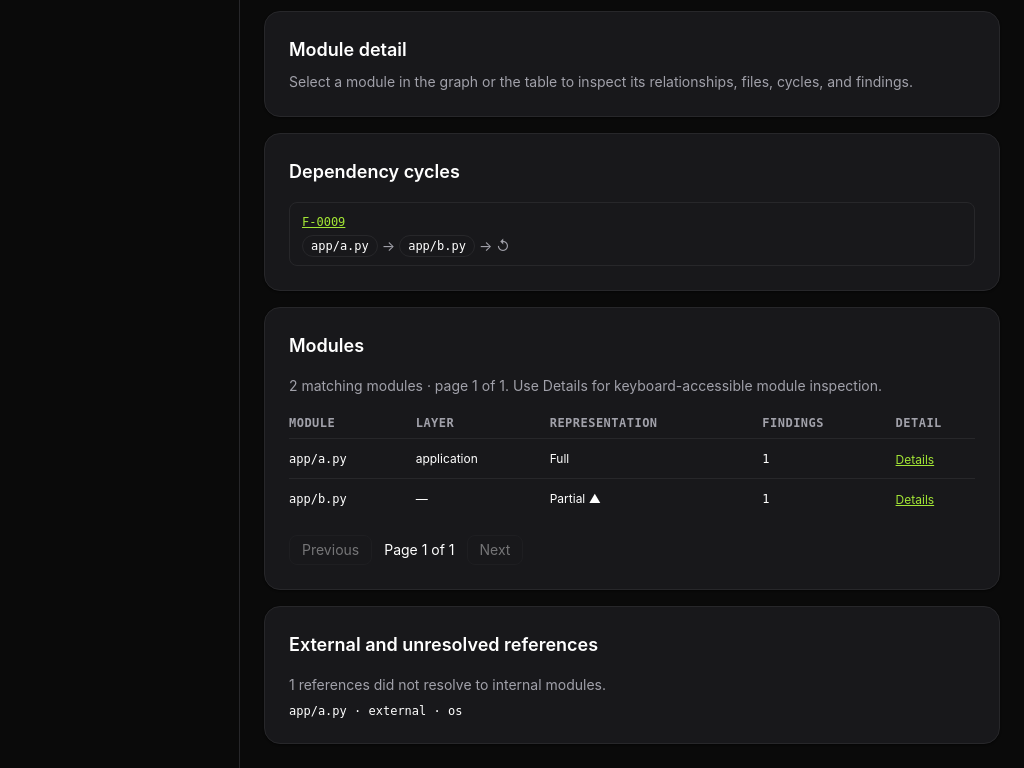
Architecture page › selects a module from the table and shows backend relationships
(page scrolled)
Expected: the cell "app/a.py" is shown, [289,439,416,479]
Click the button with aria-label "Open details for module app/a.py" at (915, 460), box [896,452,934,468]
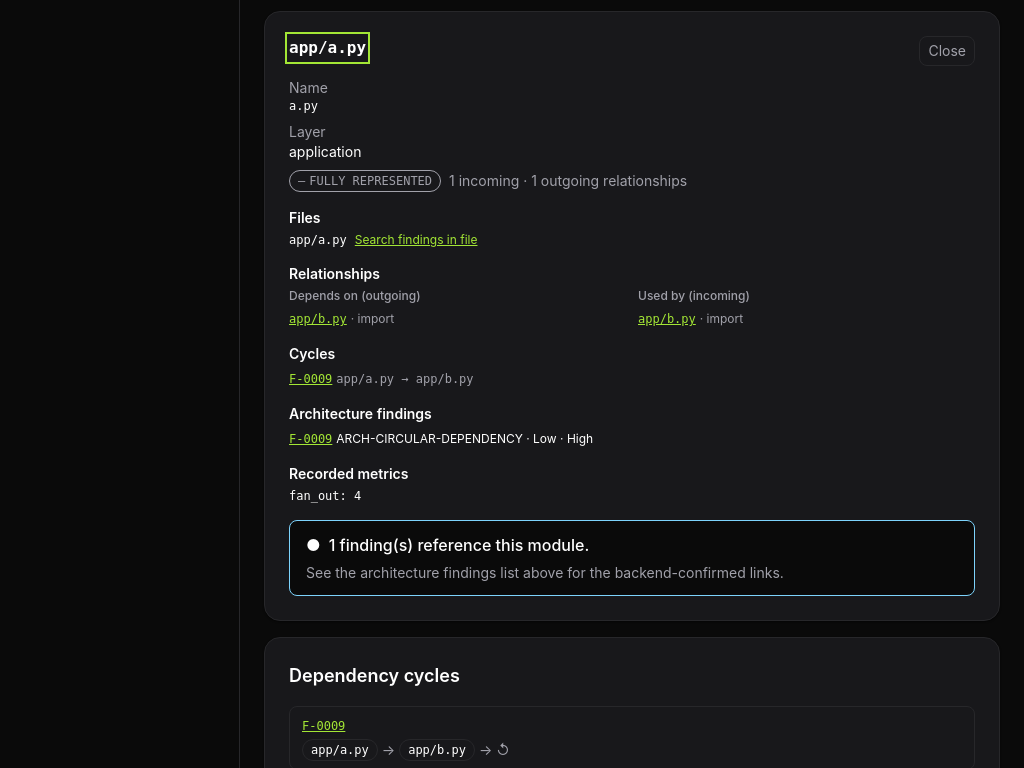
Now the heading "app/a.py" is shown, box [289,36,366,60]
Now the heading "Depends on (outgoing)" is shown, box [289,288,421,303]
Now the heading "Used by (incoming)" is shown, box [638,288,750,303]
